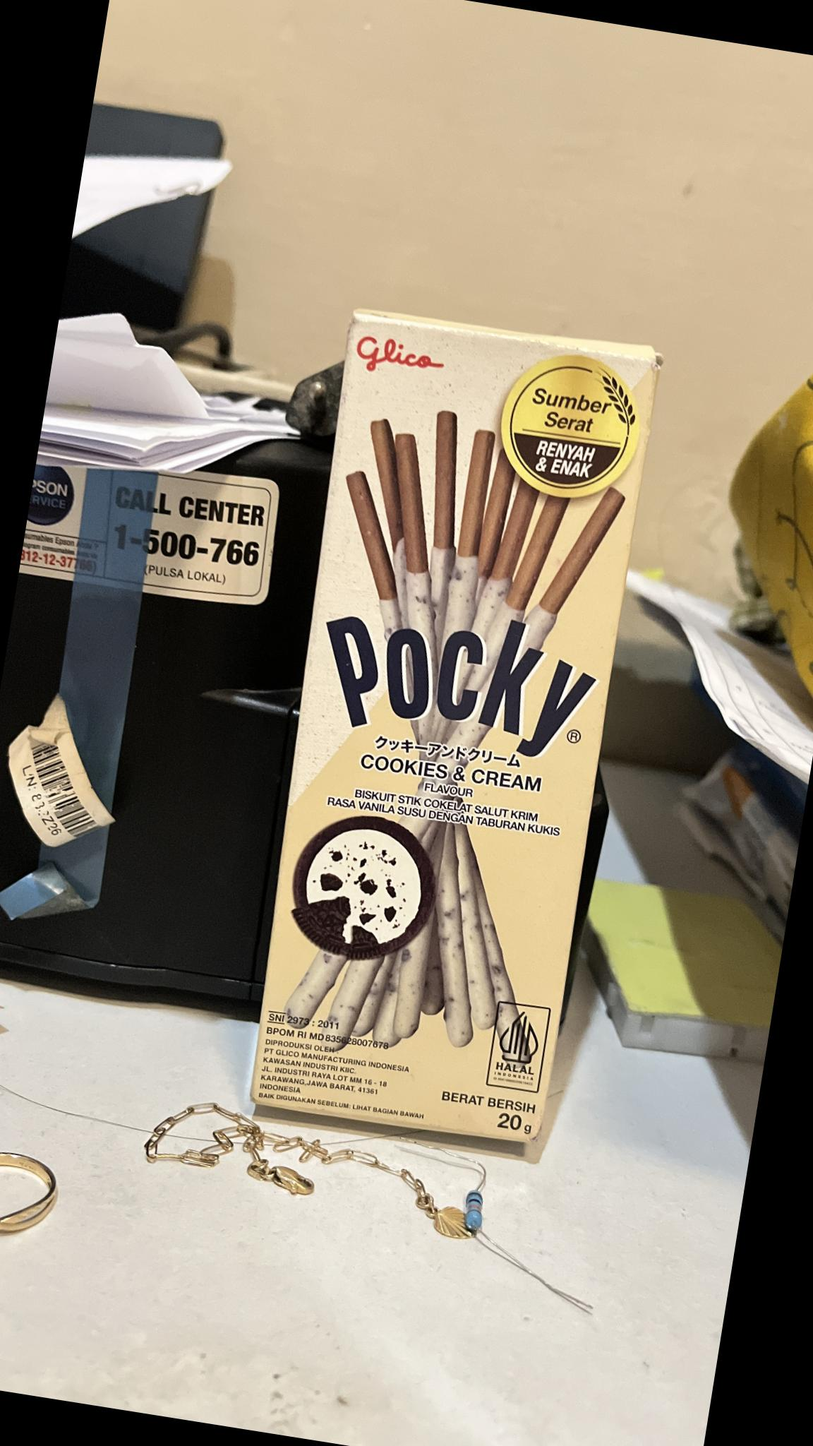Kertas: (246, 316, 658, 1156)
